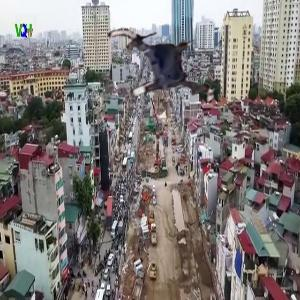drone: (104, 7, 224, 127)
